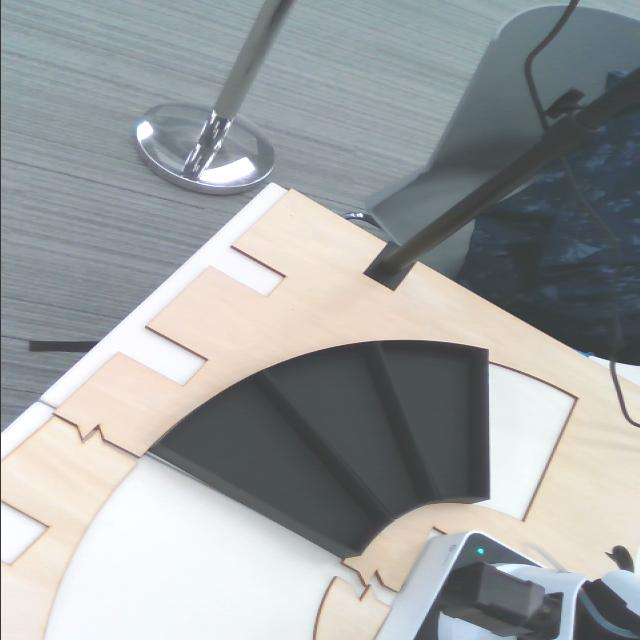box: (138, 360, 401, 617), (254, 330, 435, 547), (374, 340, 501, 505)
